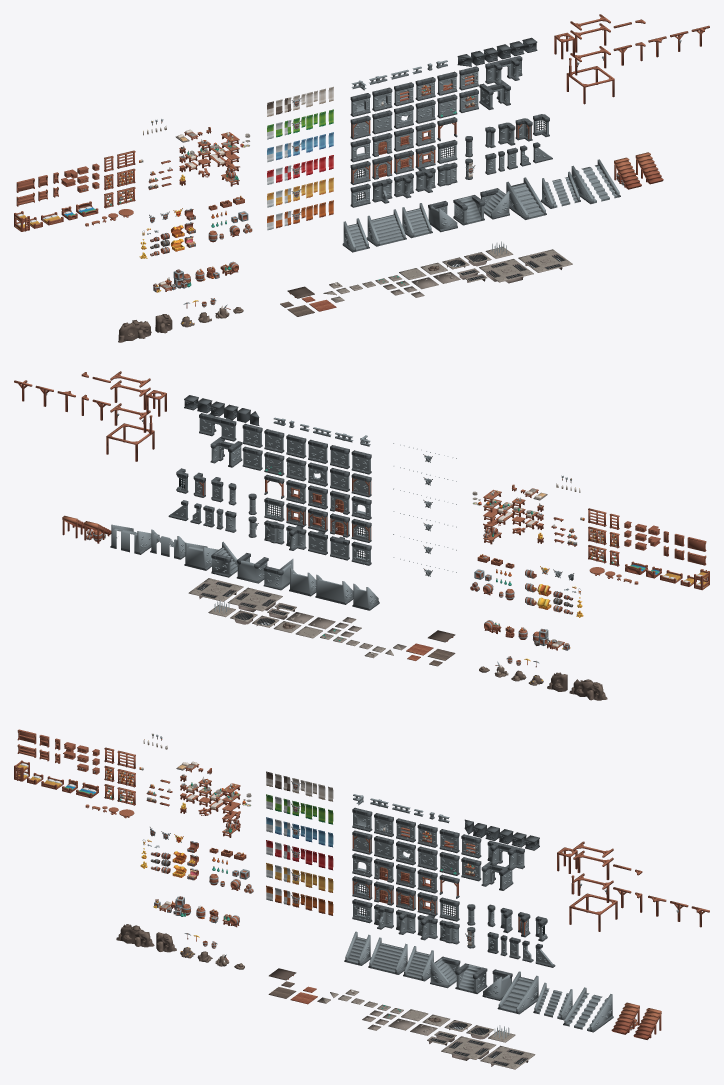
The model's file is $dungeon-optimized.glb.
The picture shows the model from 3 angles, top to bottom: view 1: azimuth 30°, elevation 25°; view 2: azimuth 150°, elevation 25°; view 3: azimuth 330°, elevation 25°; orthographic projection.
Visible parts, largest first — view 1: stairs_long, stairs_wide, floor_tile_extralarge_grates, stairs_walled, floor_tile_extralarge_grates_open, stairs, wall_doorway_Tsplit, stairs_wall_right, stairs_narrow, stairs_wall_left, wall_doorway_sides, stairs_wood_decorated (+2 smaller); view 2: floor_tile_extralarge_grates, floor_tile_extralarge_grates_open, stairs_wide, wall_doorway_Tsplit, stairs_walled, stairs_long, stairs_wall_right, wall_doorway_sides, stairs_wall_left, rubble_large, stairs; view 3: stairs_long, stairs_wide, floor_tile_extralarge_grates, stairs_walled, floor_tile_extralarge_grates_open, stairs_wall_left, wall_doorway_Tsplit, stairs, stairs_narrow, wall_doorway_sides, stairs_wood_decorated, stairs_wall_right (+2 smaller).
Part boxes in pixels (x1,y1,x2,y2): stairs_long: (506,177,546,219); stairs_wide: (366,209,406,246); floor_tile_extralarge_grates: (479,259,533,283); stairs_walled: (453,195,484,225); floor_tile_extralarge_grates_open: (518,249,572,272); stairs: (402,203,432,238); wall_doorway_Tsplit: (485,56,522,85); stairs_wall_right: (480,188,509,219); stairs_narrow: (342,218,369,252); stairs_wall_left: (428,201,457,232); wall_doorway_sides: (479,80,510,109); stairs_wood_decorated: (614,157,641,189); floor_tile_extralarge_grates: (227,587,282,612); floor_tile_extralarge_grates_open: (188,578,243,601); stairs_wide: (315,574,353,604); wall_doorway_Tsplit: (199,413,236,441); stairs_walled: (236,553,268,583); stairs_long: (184,542,218,570); stairs_wall_right: (211,541,237,577); wall_doorway_sides: (210,437,242,467); stairs_wall_left: (263,559,293,590); rubble_large: (569,679,607,700); stairs: (289,568,316,596); stairs_long: (497,971,538,1014); stairs_wide: (368,937,407,974); floor_tile_extralarge_grates: (441,1036,495,1060); stairs_walled: (455,963,487,993); floor_tile_extralarge_grates_open: (480,1045,535,1069); stairs_wall_left: (430,956,460,988); wall_doorway_Tsplit: (487,840,524,870); stairs: (403,946,433,981); stairs_narrow: (344,931,371,965); wall_doorway_sides: (481,861,513,890); stairs_wood_decorated: (611,1002,639,1034); stairs_wall_right: (482,969,512,1000).
Bounding box in the file's own units: 159 × 48.73 × 16.
1 material, 1 textured.
